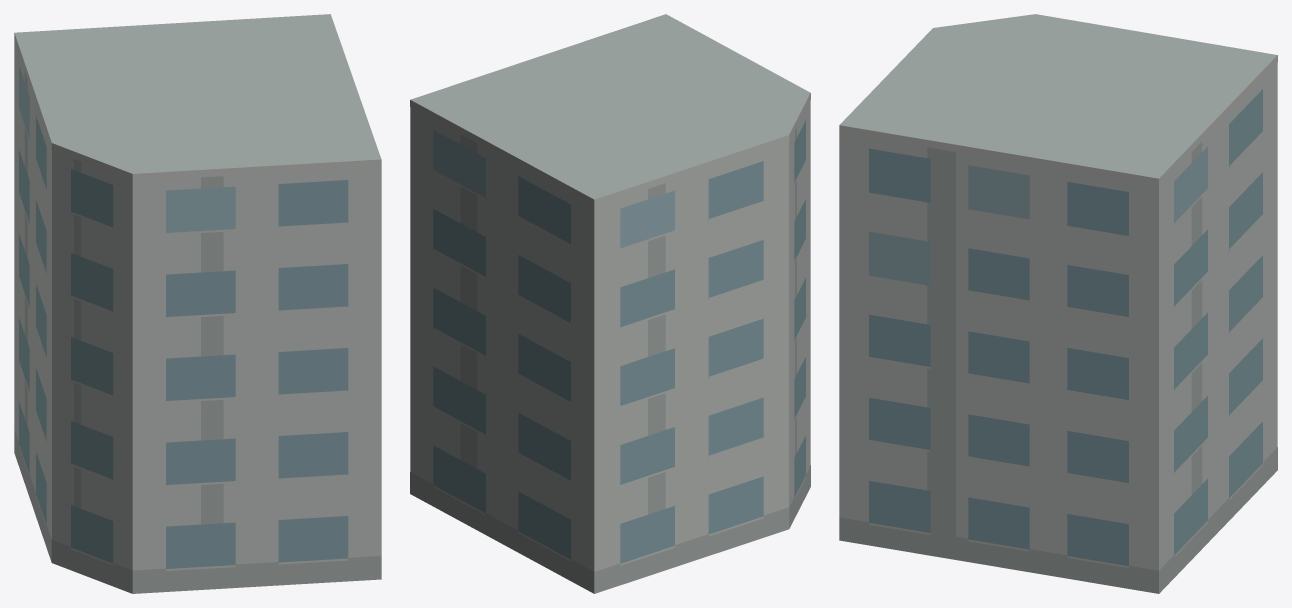
The model's file is survey-upis-32878025.glb.
3 views of the same model, side by side, from view 1: azimuth 30°, elevation 25°; view 2: azimuth 150°, elevation 25°; view 3: azimuth 270°, elevation 25° (orthographic). The views are drawn at different scales.
Visible parts, largest first — view 1: survey-upis-32878025.tmp; view 2: survey-upis-32878025.tmp; view 3: survey-upis-32878025.tmp.
Part boxes in pixels (box(x1,y1,x2,y2)): survey-upis-32878025.tmp: box(14, 14, 381, 593); survey-upis-32878025.tmp: box(410, 14, 810, 593); survey-upis-32878025.tmp: box(839, 14, 1277, 593).
Size of the model in its own units: 11.49 by 13.5 by 12.93.
